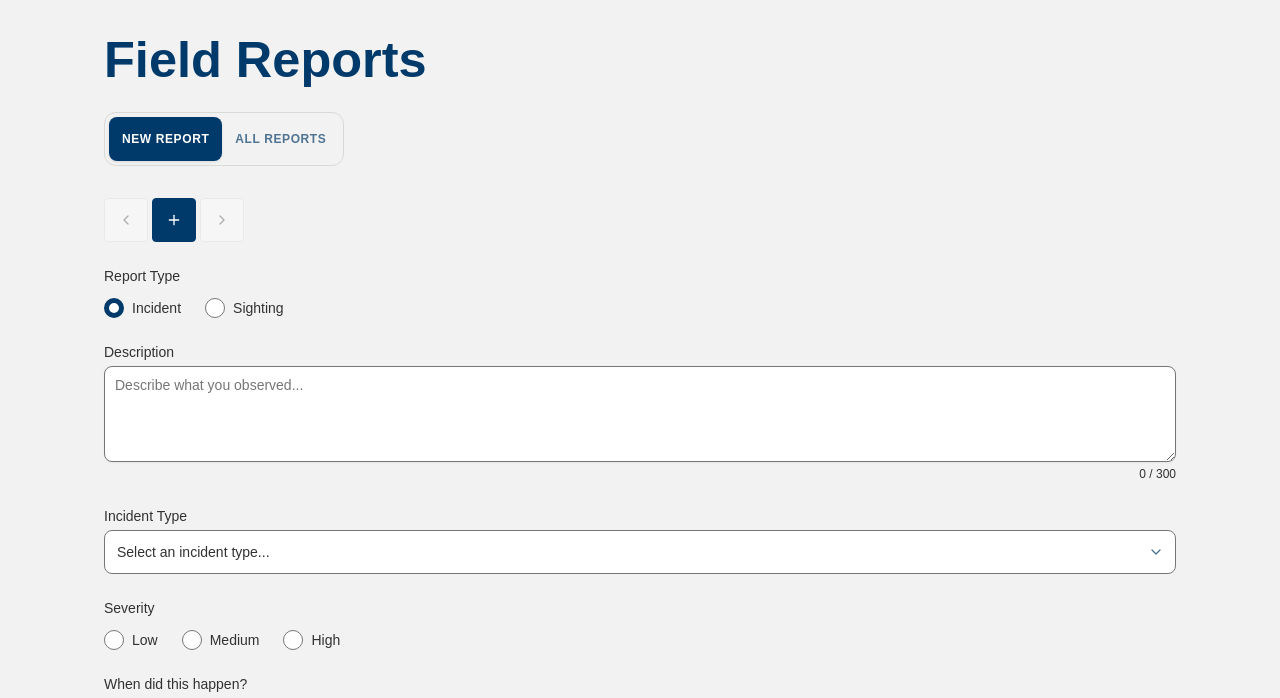
Scenario: ReportsPage › fetches and renders reports on load
Click the tab "All Reports" at (281, 139), box left=222, top=117, right=339, bottom=161
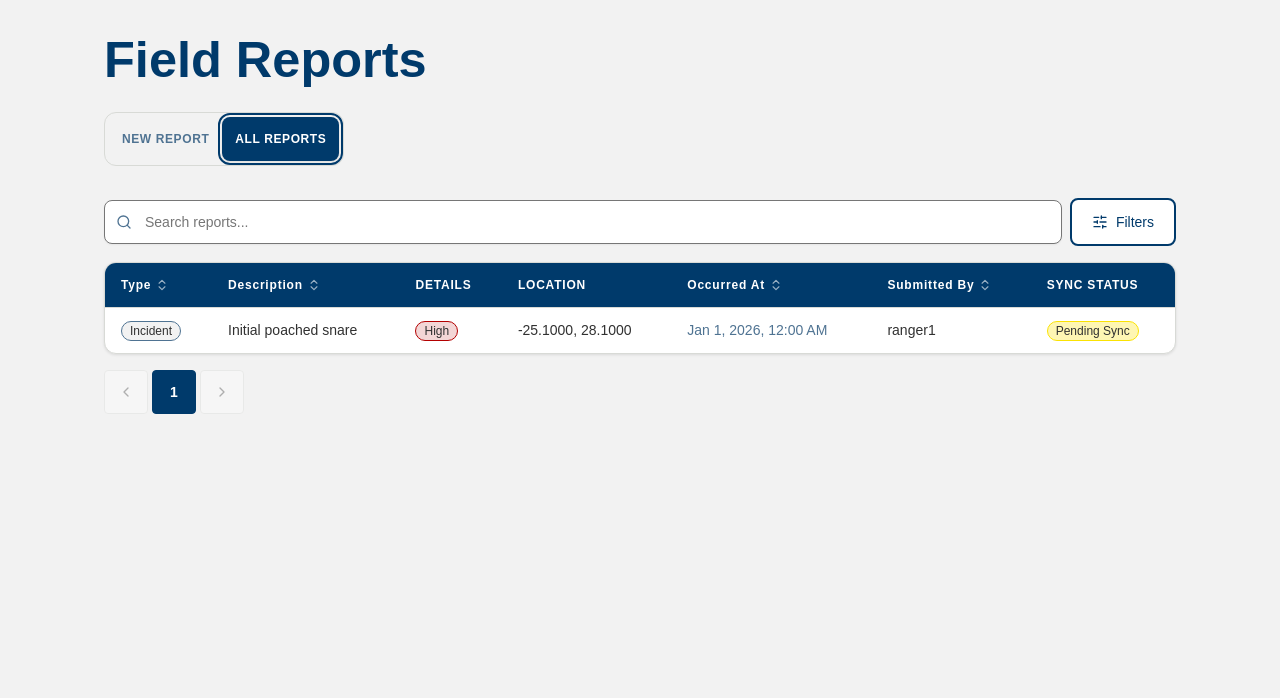
Expected: the text "Initial poached snare" is shown, left=212, top=307, right=400, bottom=353
